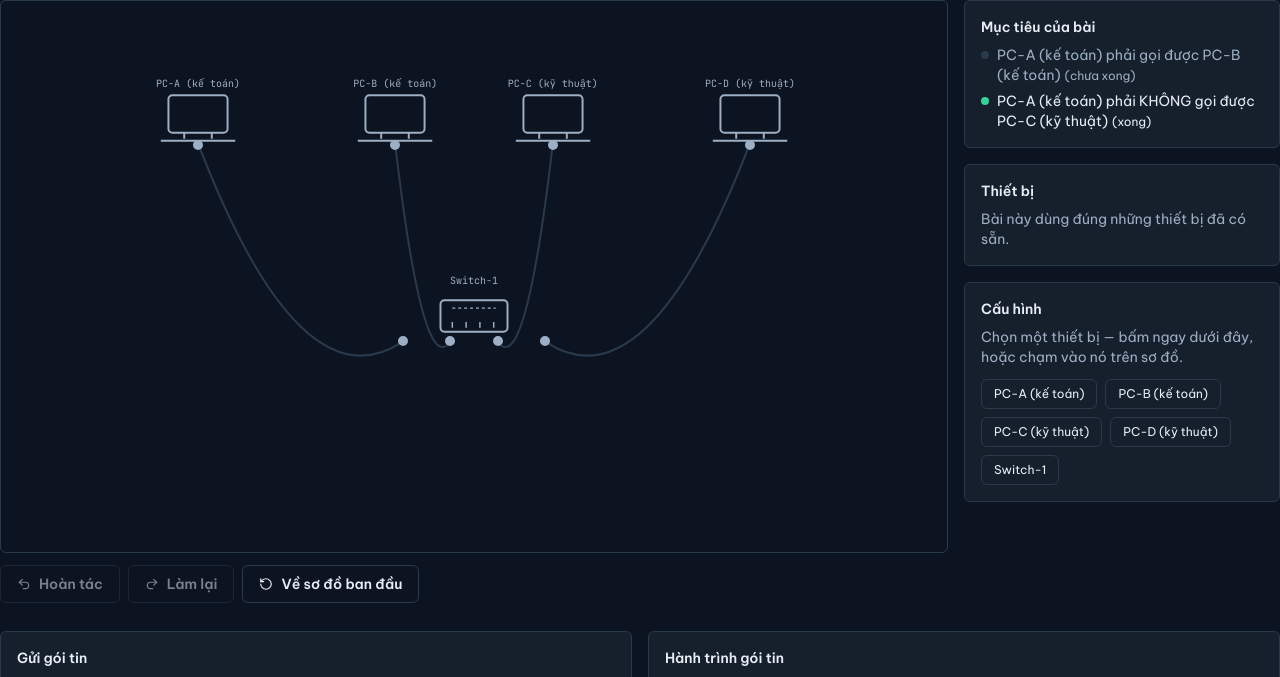
Test: sửa VLAN — lời giải của bài › đổi VLAN thì mục tiêu chuyển sang xong
Expected: the text "(chưa xong)" is shown once, x1=1065 y1=68 x2=1136 y2=83
Click the 1st button "Switch-1" at {"x": 474, "y": 316}, box x1=437 y1=290 x2=512 y2=341
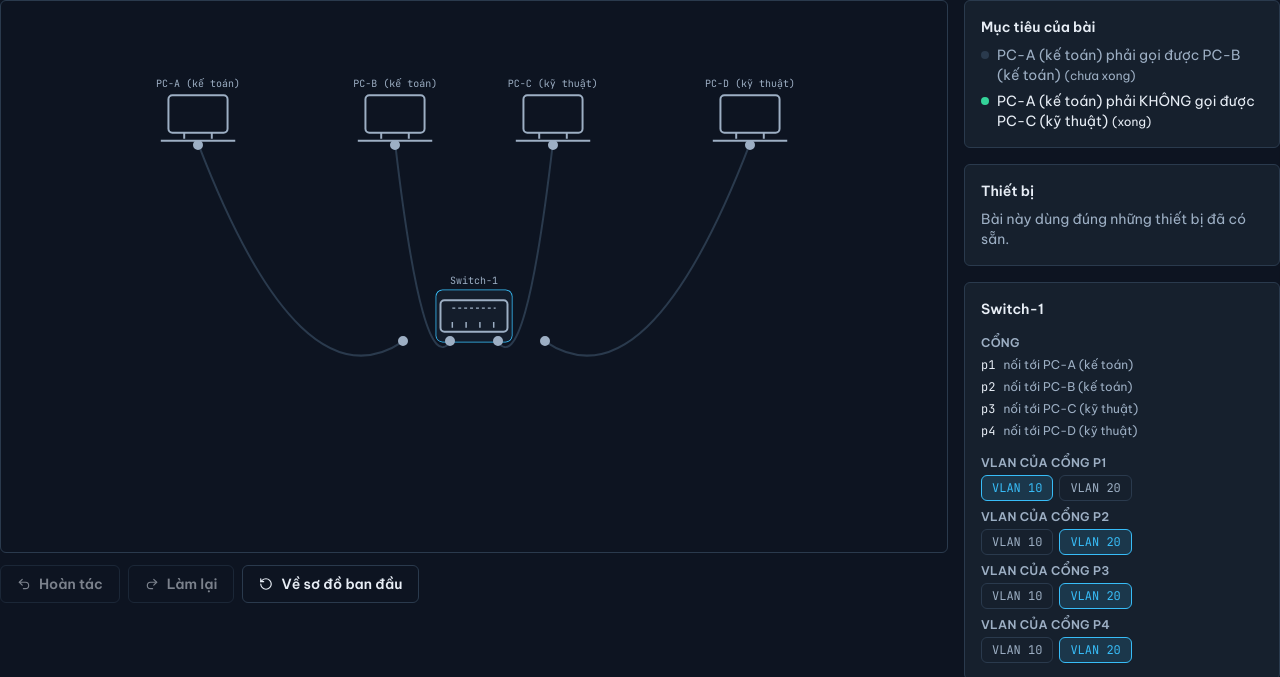
Click the radio button labelled "VLAN 10" below "VLAN của cổng p2" at {"x": 1017, "y": 542}, box x1=981 y1=529 x2=1053 y2=555
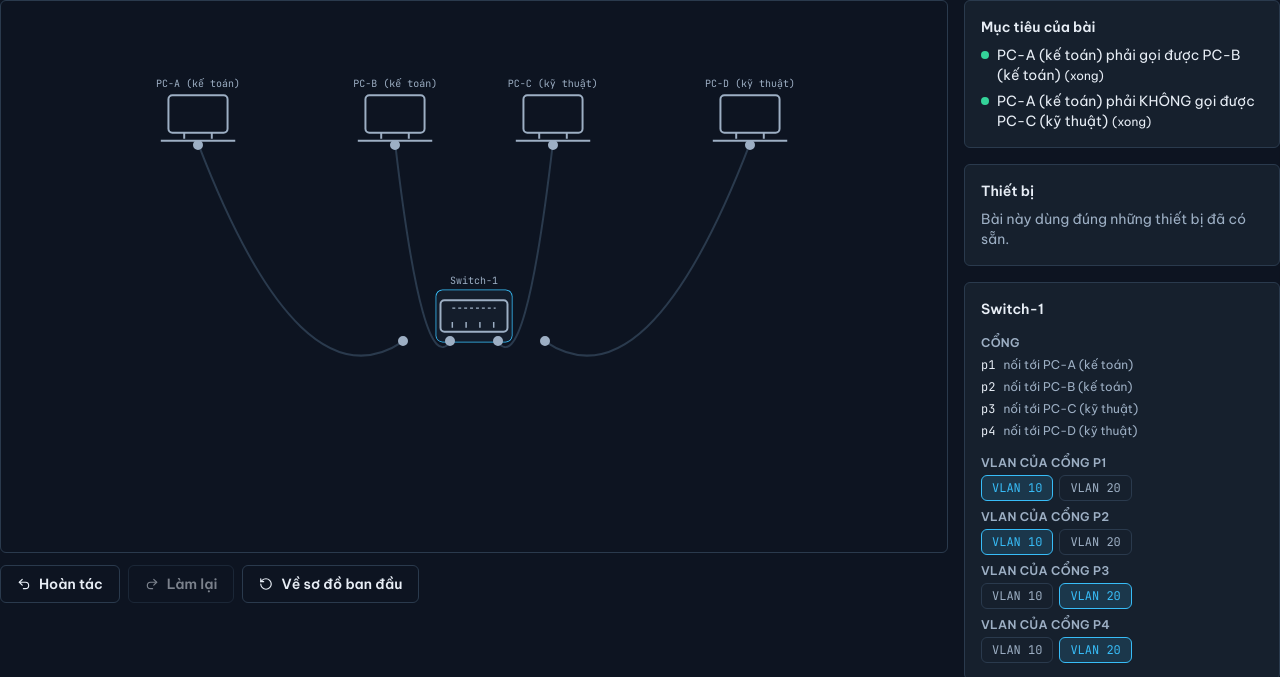
Expected: the text "(chưa xong)" is not shown
